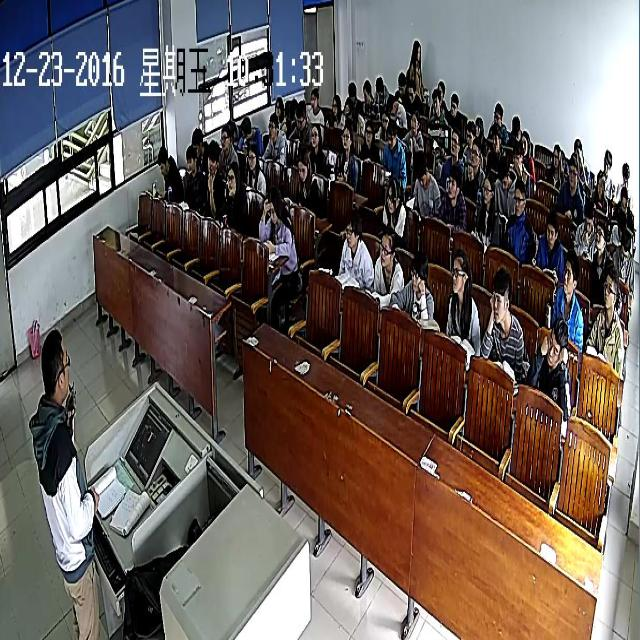person: (41, 326, 68, 402), (492, 268, 509, 322), (548, 318, 562, 373), (451, 255, 466, 302), (410, 252, 426, 295), (562, 253, 578, 294), (602, 268, 616, 306), (267, 187, 280, 225), (512, 178, 524, 218), (226, 162, 240, 196), (345, 212, 359, 246), (206, 139, 218, 176), (386, 178, 398, 214), (296, 149, 309, 181), (380, 233, 392, 267), (447, 168, 459, 202), (545, 212, 557, 246), (592, 217, 604, 250), (414, 155, 427, 185), (483, 173, 494, 207), (191, 124, 203, 155), (341, 122, 353, 153), (497, 157, 509, 188), (619, 233, 630, 266), (157, 145, 168, 175), (220, 123, 231, 153), (470, 140, 481, 170), (568, 158, 578, 190), (184, 146, 196, 172), (550, 142, 562, 168), (310, 122, 320, 153), (450, 126, 460, 157), (363, 119, 373, 149), (386, 119, 396, 149), (295, 101, 305, 130), (465, 120, 475, 149), (596, 171, 606, 200), (492, 100, 503, 126), (268, 111, 278, 139), (520, 129, 530, 157), (572, 134, 584, 157), (512, 144, 521, 173), (621, 158, 630, 187), (273, 94, 283, 120), (492, 124, 502, 150), (331, 94, 341, 119), (347, 79, 357, 104), (362, 78, 372, 103), (410, 35, 420, 60), (584, 197, 592, 228), (247, 144, 256, 170), (432, 90, 441, 116), (511, 114, 520, 139), (381, 106, 389, 134), (342, 98, 351, 122), (374, 74, 383, 98), (407, 80, 416, 104), (618, 213, 626, 240), (310, 85, 318, 111), (449, 92, 458, 115), (242, 115, 251, 137), (386, 93, 395, 114), (619, 190, 628, 211), (474, 114, 482, 137), (436, 79, 444, 101), (410, 111, 418, 132), (397, 72, 406, 90), (605, 148, 611, 171)
